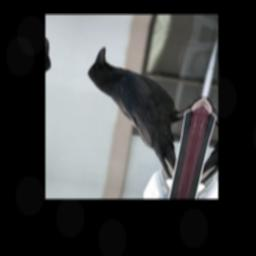Crow: (67, 44, 210, 182)
